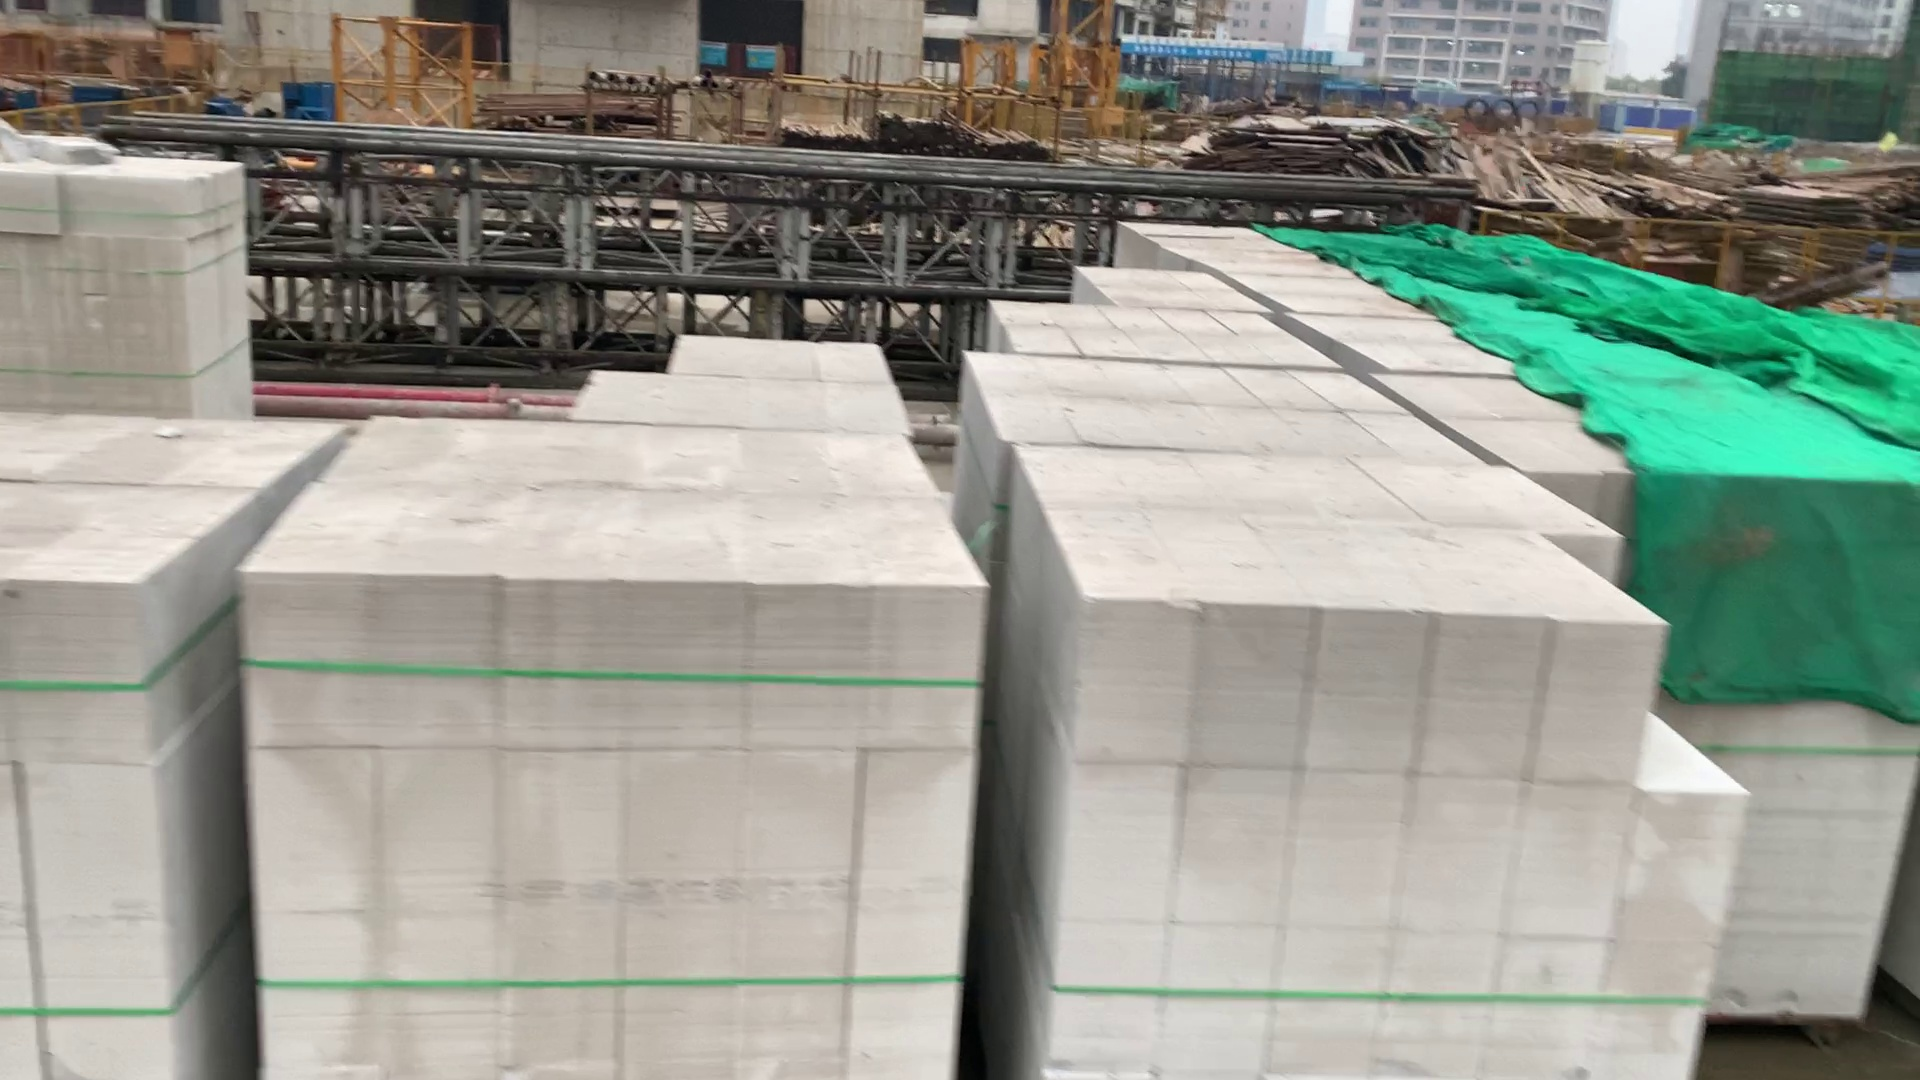brickwork: (262, 419, 971, 1080), (1011, 448, 1729, 1080), (1, 415, 320, 1077), (1, 148, 258, 418), (1381, 369, 1920, 483), (965, 348, 1477, 465), (585, 326, 919, 429), (986, 295, 1341, 371), (1284, 307, 1527, 377), (1073, 261, 1273, 313), (1127, 222, 1324, 264), (1216, 265, 1416, 306)
